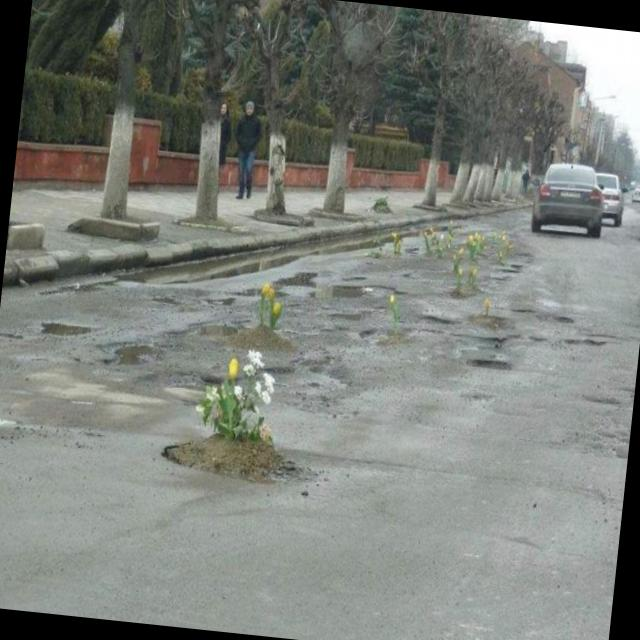Potholes: (152, 398, 318, 518), (221, 311, 306, 375), (450, 334, 546, 388), (348, 302, 428, 348), (457, 294, 511, 333)
